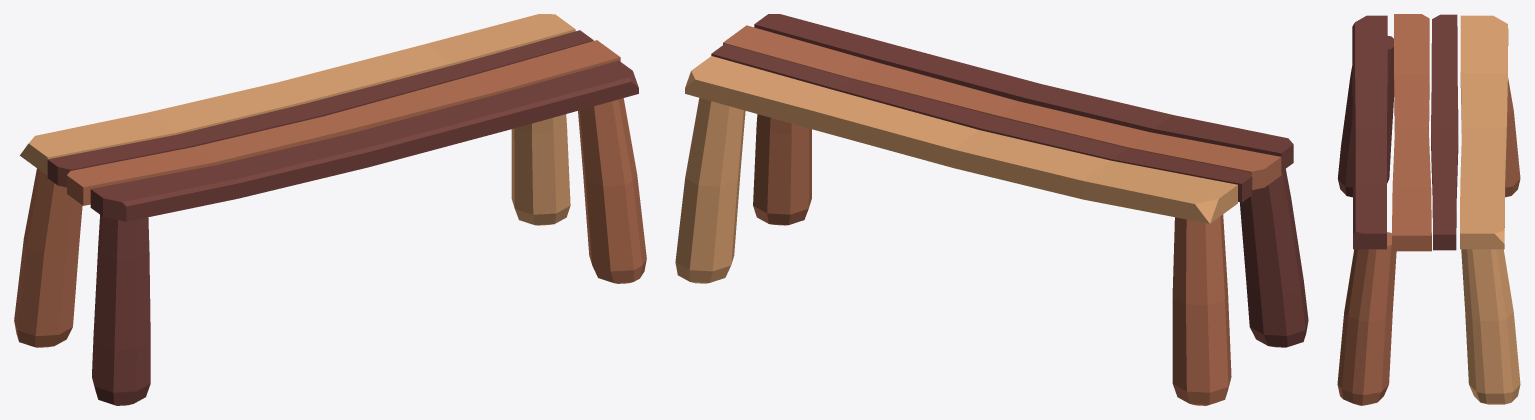
File: Bench 01.fbx
3 renders of one model, left to right at view 1: azimuth 30°, elevation 25°; view 2: azimuth 150°, elevation 25°; view 3: azimuth 270°, elevation 25°, orthographic. The views are drawn at different scales.
Parts seen in each view (by area): view 1: Bench 01; view 2: Bench 01; view 3: Bench 01.
Boxes of the visible parts, bbox=[...] form: Bench 01: bbox=[14, 14, 646, 405]; Bench 01: bbox=[675, 14, 1308, 405]; Bench 01: bbox=[1337, 14, 1520, 405].
Bounding box in the file's own units: 148 × 52.17 × 50.22.
